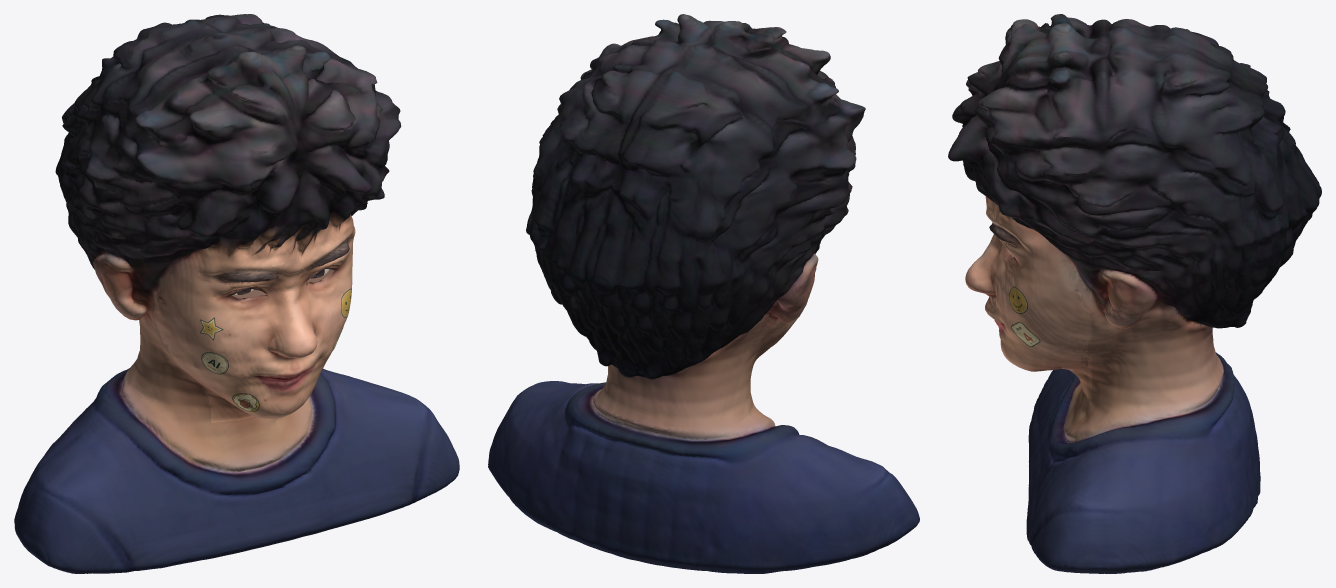
The model's file is me-fast.glb.
The picture shows the model from 3 angles, left to right: view 1: azimuth 30°, elevation 25°; view 2: azimuth 150°, elevation 25°; view 3: azimuth 270°, elevation 25°; orthographic projection. The views are drawn at different scales.
Parts seen in each view (by area): view 1: Haoyang_Full3D; view 2: Haoyang_Full3D; view 3: Haoyang_Full3D.
Boxes of the visible parts, x1=… form: Haoyang_Full3D: x1=14, y1=14, x2=459, y2=573; Haoyang_Full3D: x1=488, y1=14, x2=919, y2=573; Haoyang_Full3D: x1=948, y1=14, x2=1321, y2=573.
Bounding box in the file's own units: 1.59 × 1.8 × 1.3.
12 materials, 8 textured.
